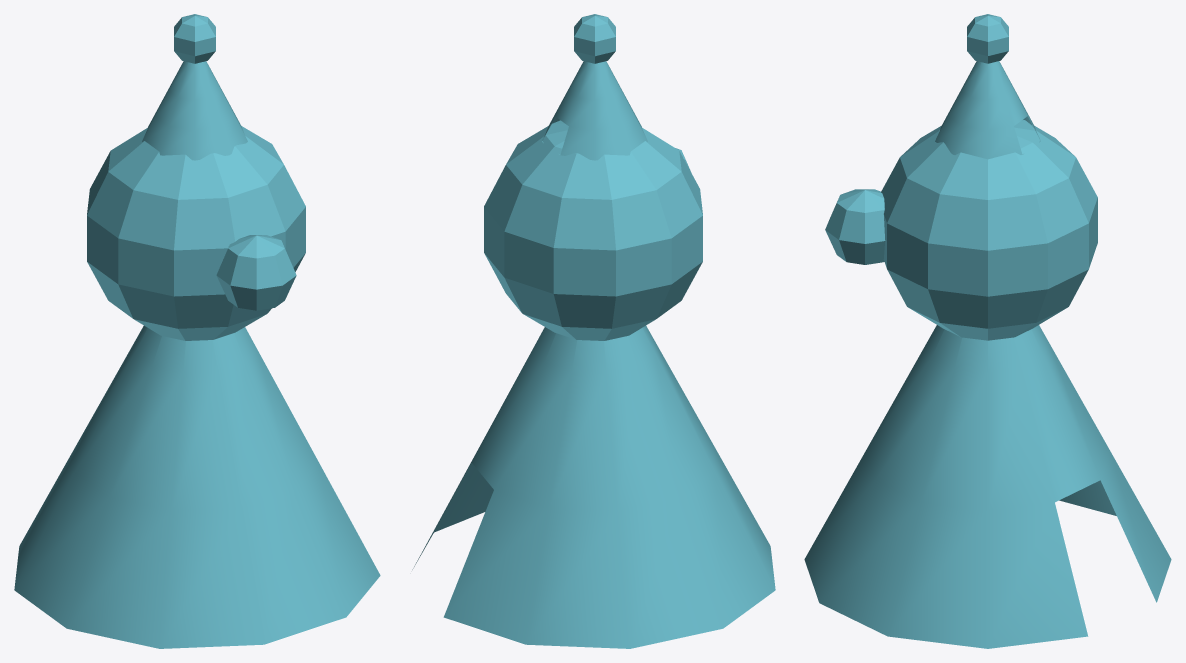
File: Clown.fbx
3 renders of one model, left to right at view 1: azimuth 30°, elevation 25°; view 2: azimuth 150°, elevation 25°; view 3: azimuth 270°, elevation 25°, orthographic.
Visible parts, largest first — view 1: pCone1, pSphere1, pasted__pCone1, pasted__pSphere2, pasted__pSphere1; view 2: pCone1, pSphere1, pasted__pCone1, pasted__pSphere1; view 3: pCone1, pSphere1, pasted__pCone1, pasted__pSphere2, pasted__pSphere1.
Boxes of the visible parts, x1,y1,x2,y2 form: pCone1: (14, 325, 380, 648); pSphere1: (87, 126, 305, 340); pasted__pCone1: (142, 61, 247, 160); pasted__pSphere2: (216, 235, 296, 310); pasted__pSphere1: (174, 14, 215, 63); pCone1: (412, 325, 775, 648); pSphere1: (484, 120, 702, 340); pasted__pCone1: (542, 61, 647, 160); pasted__pSphere1: (574, 14, 615, 63); pCone1: (804, 325, 1171, 648); pSphere1: (881, 119, 1097, 340); pasted__pCone1: (935, 61, 1040, 159); pasted__pSphere2: (825, 189, 885, 264); pasted__pSphere1: (967, 14, 1008, 63).
Bounding box in the file's own units: 6.24 × 10.5 × 6.3.
